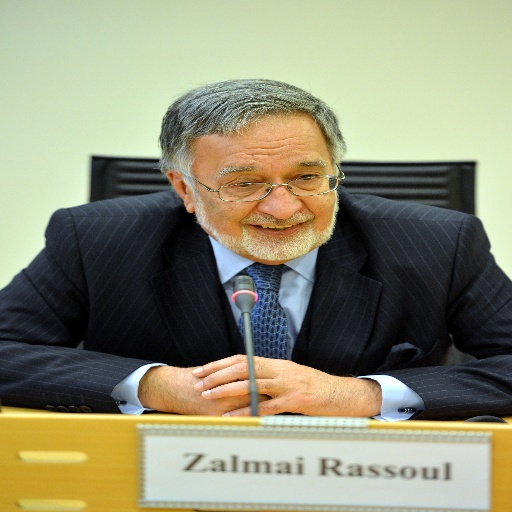hand: (150, 366, 294, 416)
